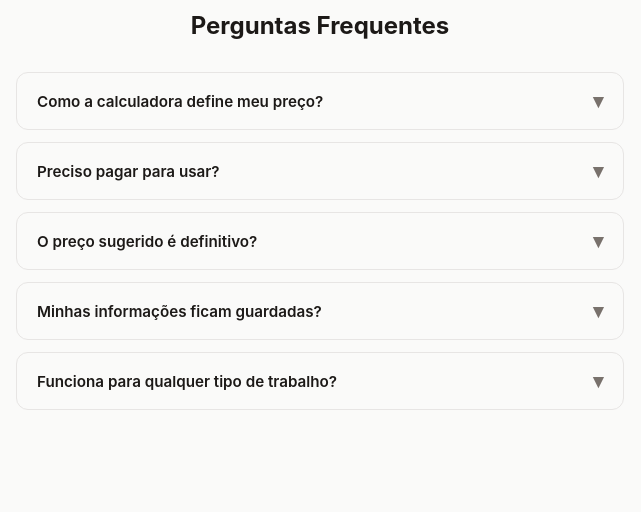
FAQAccordion › clicking first question reveals its answer
Click the button "Como a calculadora define meu preço? ▾": (320, 101) [17,73,623,129]
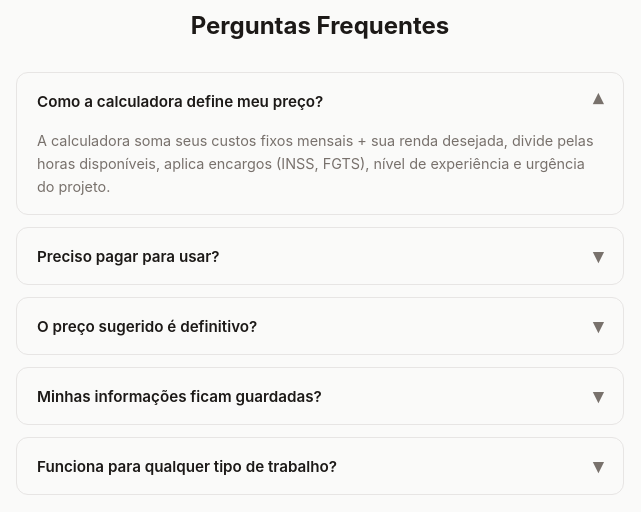
Expected: the number of elements with class "faq-answer" is 1, [17,129,623,214]
Expected: the text with class "faq-answer" shows "custos fixos mensais", [37,132,594,195]
